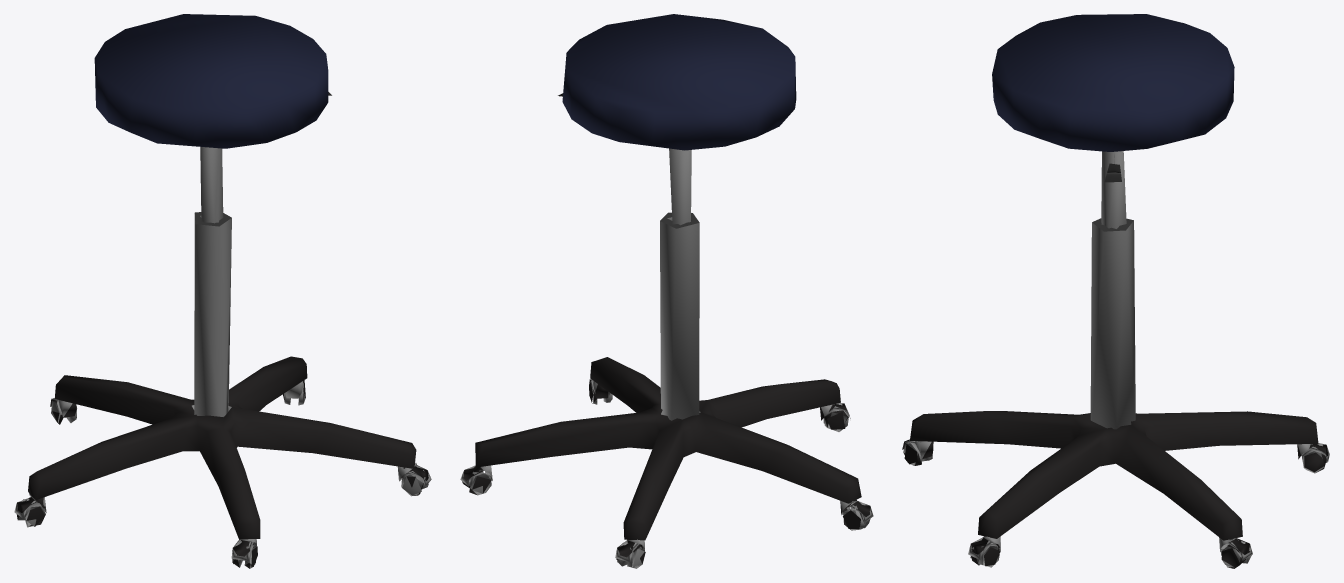
Rendered from sillita.obj.
The picture shows the model from 3 angles, left to right: view 1: azimuth 30°, elevation 25°; view 2: azimuth 150°, elevation 25°; view 3: azimuth 270°, elevation 25°; orthographic projection. The views are drawn at different scales.
Parts seen in each view (by area): view 1: chair1; view 2: chair1; view 3: chair1.
Part boxes in pixels (box(x1,y1,x2,y2)): chair1: box(14, 14, 431, 568); chair1: box(460, 14, 873, 568); chair1: box(902, 14, 1329, 568).
Size of the model in its own units: 3.52 by 4.08 by 3.65.
